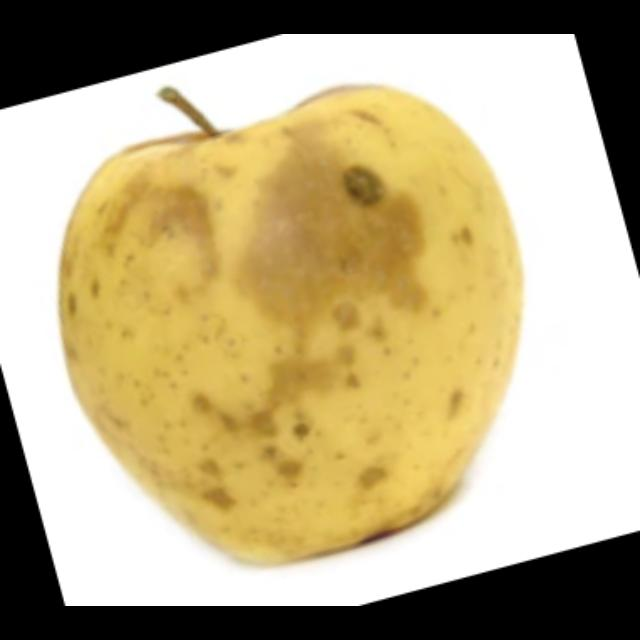Apel Tidak Segar: (26, 96, 598, 582)
